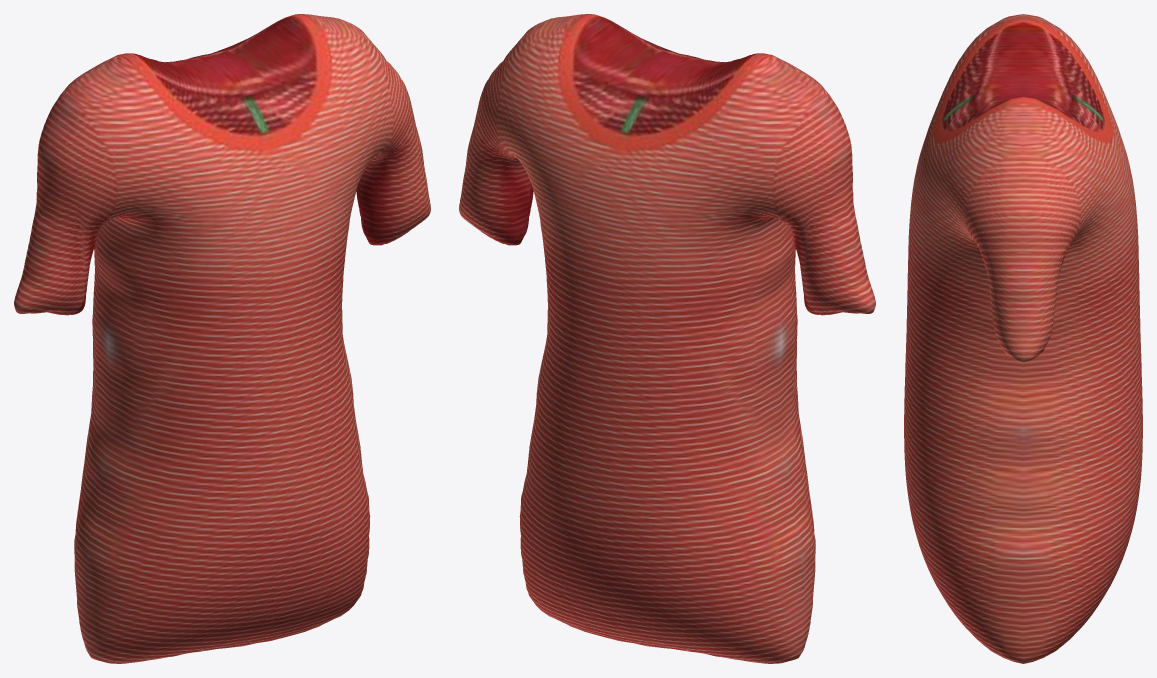
3 views of the same model, side by side, from view 1: azimuth 30°, elevation 25°; view 2: azimuth 150°, elevation 25°; view 3: azimuth 270°, elevation 25° (orthographic). The views are drawn at different scales.
Size of the model in its own units: 4.57 by 6.39 by 2.48.
Materials: 1 (1 with a texture image).
